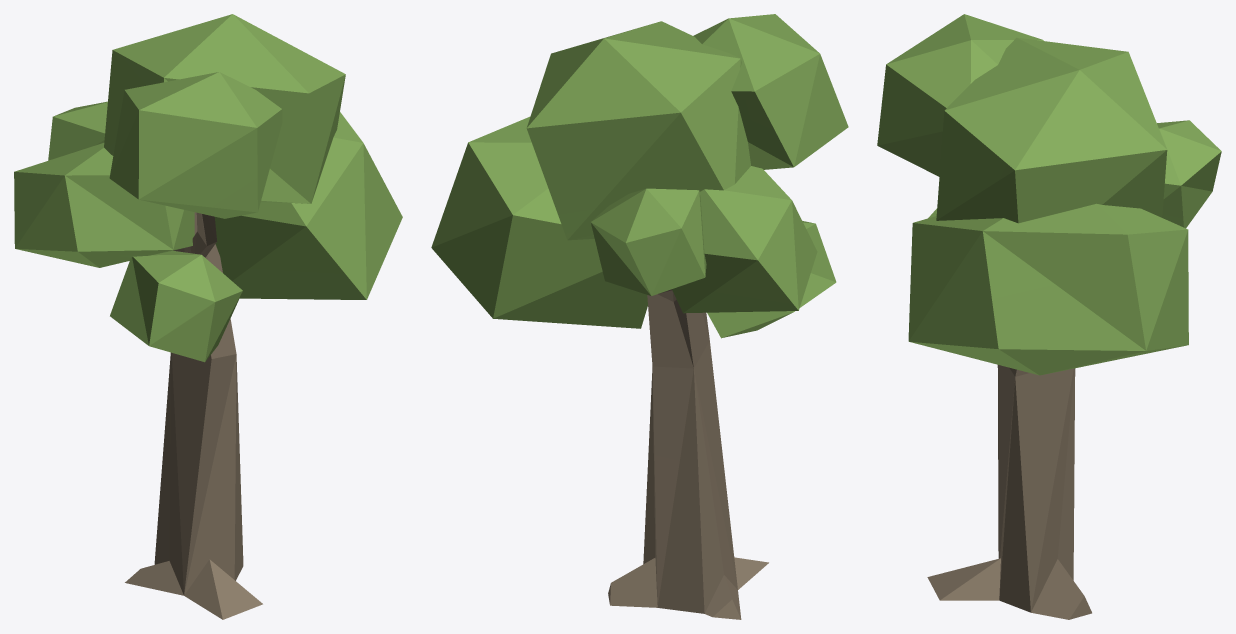
Rendered from Vegetation_Tree_Common_04.fbx.
3 renders of one model, left to right at view 1: azimuth 30°, elevation 25°; view 2: azimuth 150°, elevation 25°; view 3: azimuth 270°, elevation 25°, orthographic. The views are drawn at different scales.
Visible parts, largest first — view 1: Vegetation_Tree_Common_04; view 2: Vegetation_Tree_Common_04; view 3: Vegetation_Tree_Common_04.
Part boxes in pixels (box(x1,y1,x2,y2)): Vegetation_Tree_Common_04: box(14, 14, 402, 619); Vegetation_Tree_Common_04: box(431, 14, 848, 619); Vegetation_Tree_Common_04: box(877, 14, 1221, 619).
Size of the model in its own units: 3323 by 5061 by 2877.
